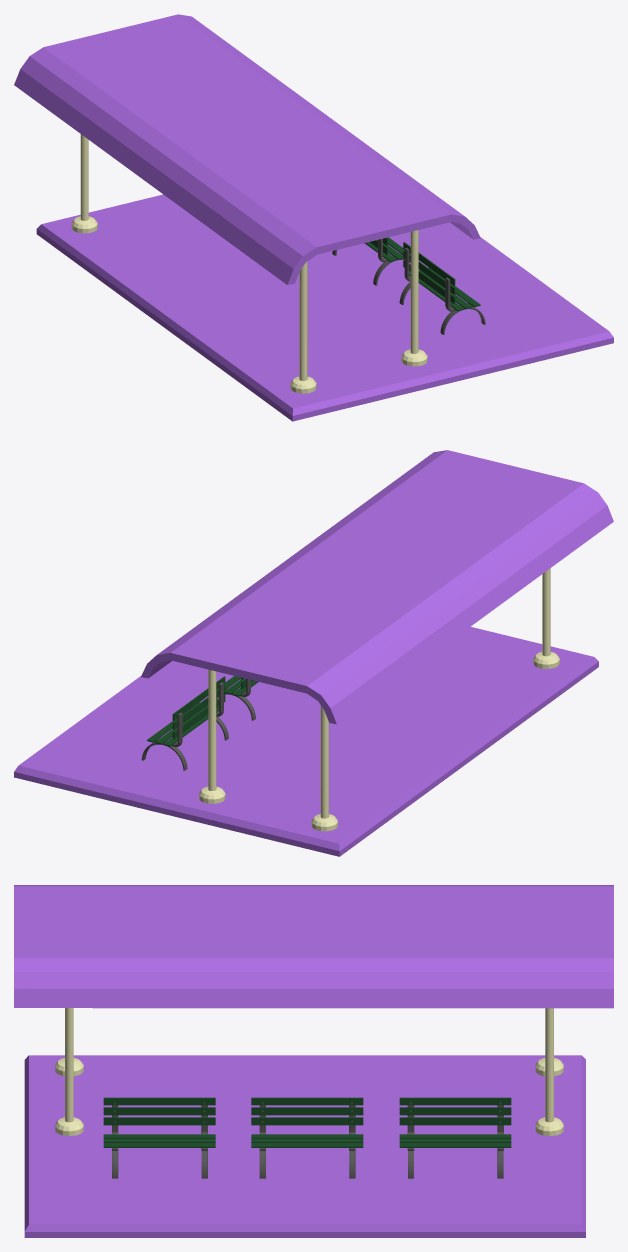
The model's file is station_purple.fbx.
3 renders of one model, top to bottom at view 1: azimuth 30°, elevation 25°; view 2: azimuth 150°, elevation 25°; view 3: azimuth 270°, elevation 25°, orthographic. The views are drawn at different scales.
Visible parts, largest first — view 1: station_purple_mesh; view 2: station_purple_mesh; view 3: station_purple_mesh.
Part boxes in pixels (x1=…): station_purple_mesh: x1=14, y1=14, x2=613, y2=421; station_purple_mesh: x1=14, y1=450, x2=613, y2=856; station_purple_mesh: x1=14, y1=885, x2=613, y2=1237.
Size of the model in its own units: 136 by 68.05 by 195.
